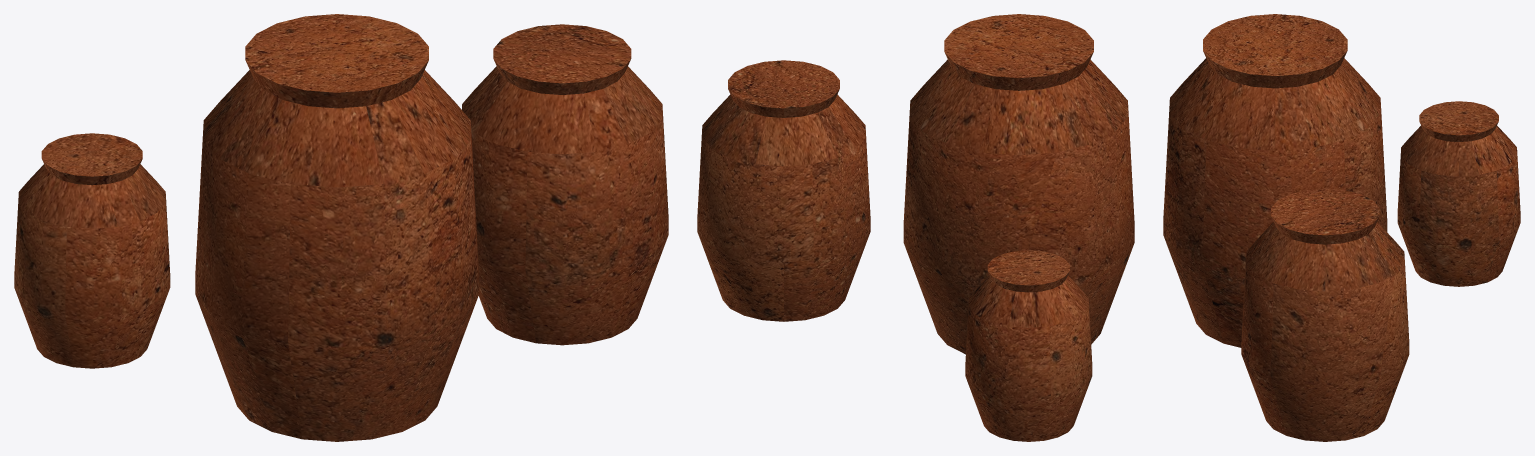
File: ceramic-jars-v01-photo.glb
3 views of the same model, side by side, from view 1: azimuth 30°, elevation 25°; view 2: azimuth 150°, elevation 25°; view 3: azimuth 270°, elevation 25° (orthographic). The views are drawn at different scales.
Visible parts, largest first — view 1: ceramic-jars; view 2: ceramic-jars; view 3: ceramic-jars.
Part boxes in pixels (left/top/right/bottom): ceramic-jars: left=14, top=14, right=668, bottom=441; ceramic-jars: left=697, top=14, right=1134, bottom=441; ceramic-jars: left=1163, top=14, right=1520, bottom=441.
Size of the model in its own units: 1.49 by 0.9 by 1.07.
Materials: 1 (1 with a texture image).
